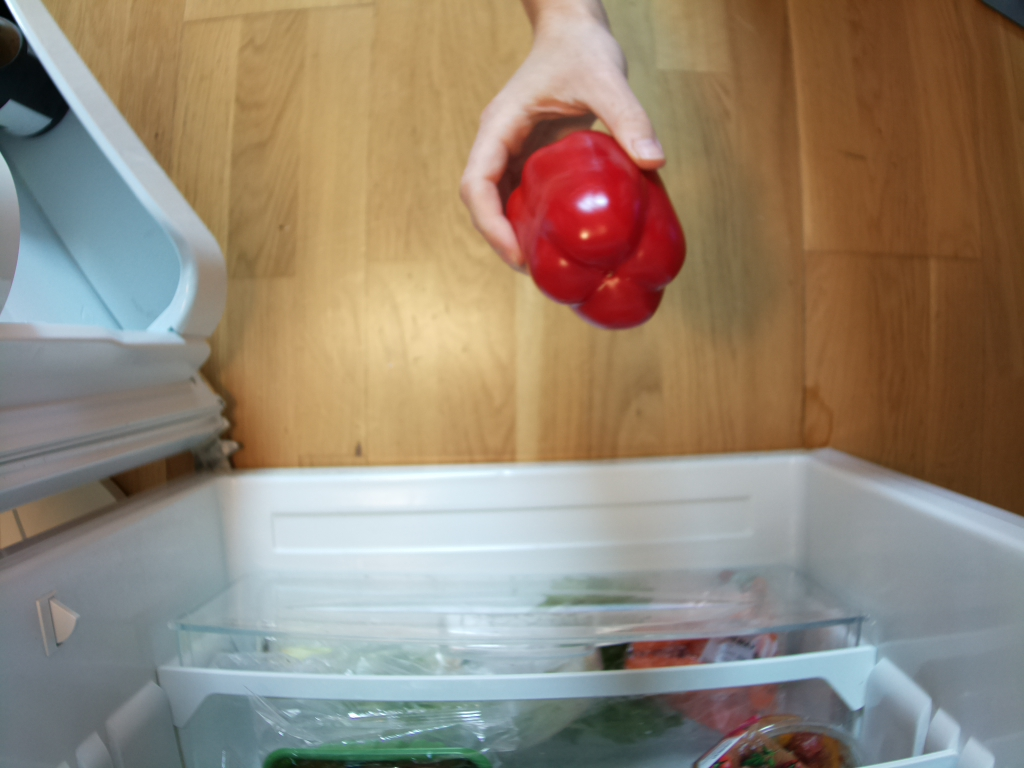pepper: (497, 131, 689, 335)
